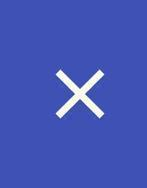ImgButton: (1, 1, 146, 187)
